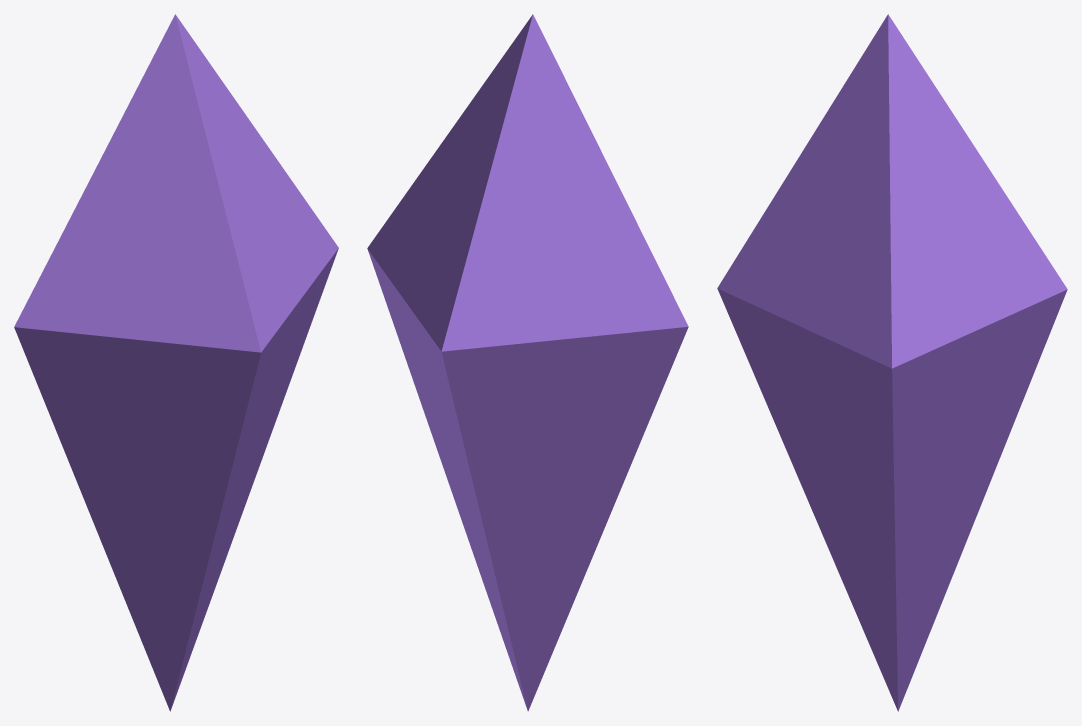
Rendered from Cristal_blocking.fbx.
3 renders of one model, left to right at view 1: azimuth 30°, elevation 25°; view 2: azimuth 150°, elevation 25°; view 3: azimuth 270°, elevation 25°, orthographic.
Visible parts, largest first — view 1: pCube6; view 2: pCube6; view 3: pCube6.
Part boxes in pixels (bbox=[...]): pCube6: bbox=[14, 14, 338, 711]; pCube6: bbox=[367, 14, 688, 711]; pCube6: bbox=[717, 14, 1067, 711].
Bounding box in the file's own units: 1.63 × 3.36 × 1.53.
